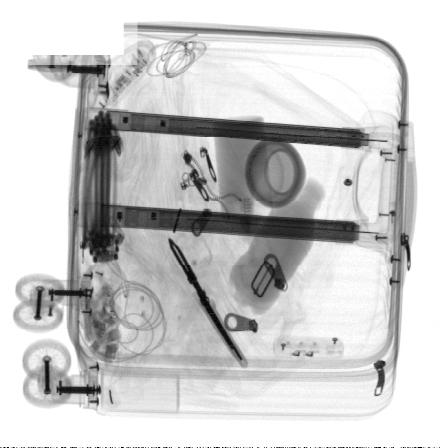Pliers: (168, 238, 245, 362)
